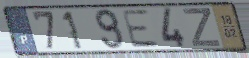1: (61, 10, 85, 51)
4: (159, 6, 187, 50)
7: (30, 10, 57, 52)
9: (93, 7, 127, 52)
E: (119, 8, 161, 50)
Z: (181, 7, 223, 48)
